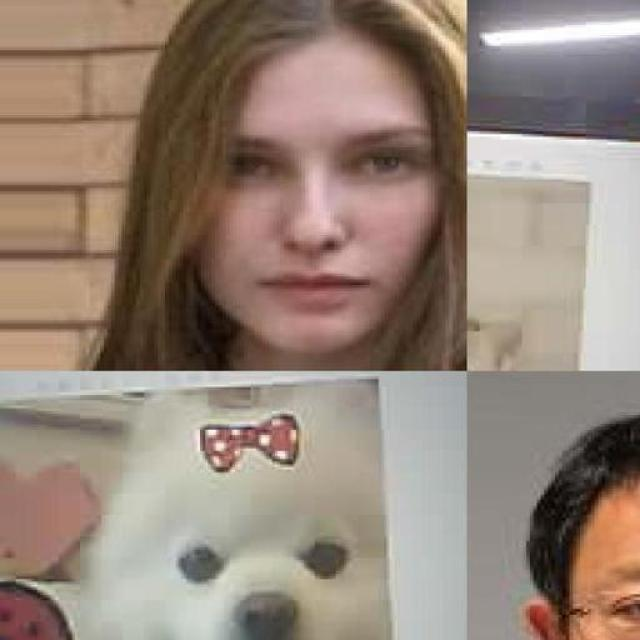bareface: (154, 18, 458, 348)
